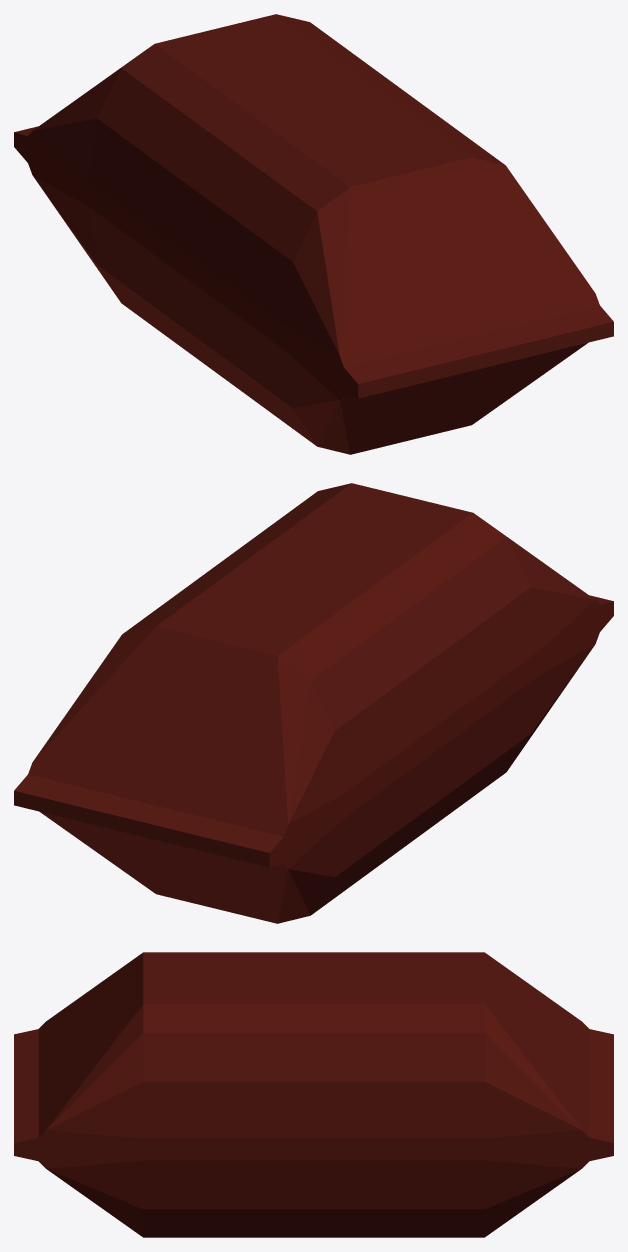
Rendered from Pop-corn.fbx.
3 views of the same model, one above another, from view 1: azimuth 30°, elevation 25°; view 2: azimuth 150°, elevation 25°; view 3: azimuth 270°, elevation 25° (orthographic). The views are drawn at different scales.
Visible parts, largest first — view 1: Pop-corn; view 2: Pop-corn; view 3: Pop-corn.
Boxes of the visible parts, <box> form: Pop-corn: <box>14,14,613,454</box>; Pop-corn: <box>14,483,613,923</box>; Pop-corn: <box>14,952,613,1237</box>.
Size of the model in its own units: 200 by 200 by 466.
